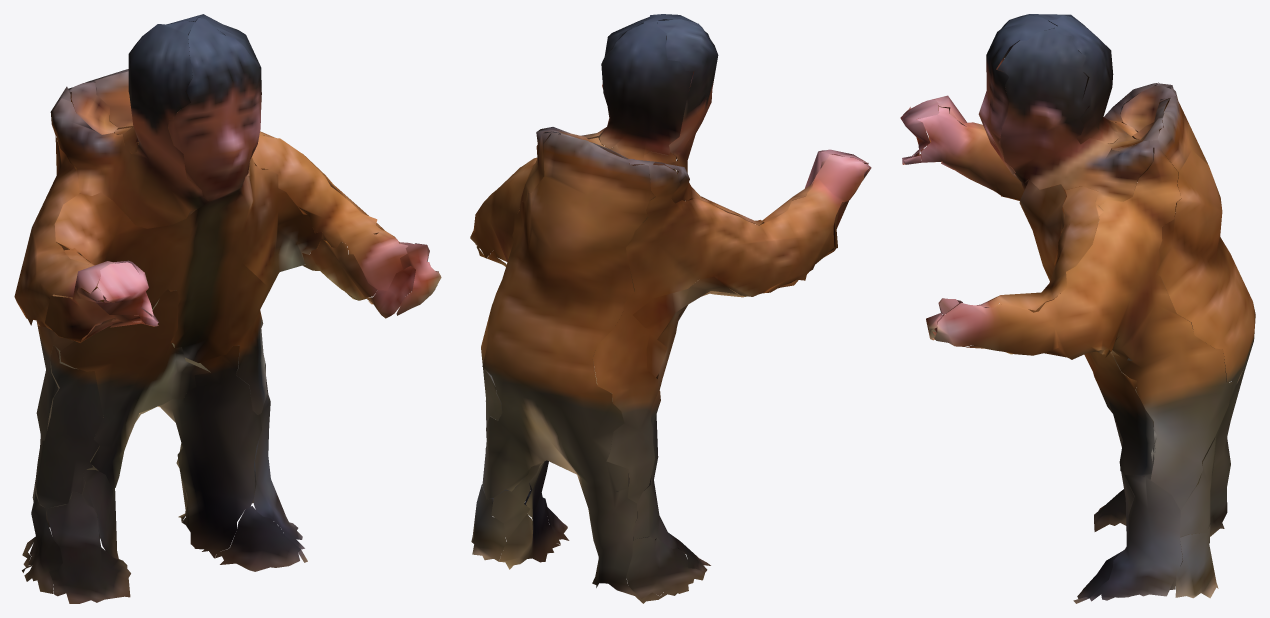
The model's file is dollA.glb.
3 views of the same model, side by side, from view 1: azimuth 30°, elevation 25°; view 2: azimuth 150°, elevation 25°; view 3: azimuth 270°, elevation 25° (orthographic). The views are drawn at different scales.
Visible parts, largest first — view 1: Geom; view 2: Geom; view 3: Geom.
Part boxes in pixels (x1,y1,x2,y2): Geom: [14, 14, 441, 603]; Geom: [470, 14, 871, 603]; Geom: [900, 14, 1255, 603].
Size of the model in its own units: 0.0562 by 0.0854 by 0.0514.
Materials: 1 (1 with a texture image).
